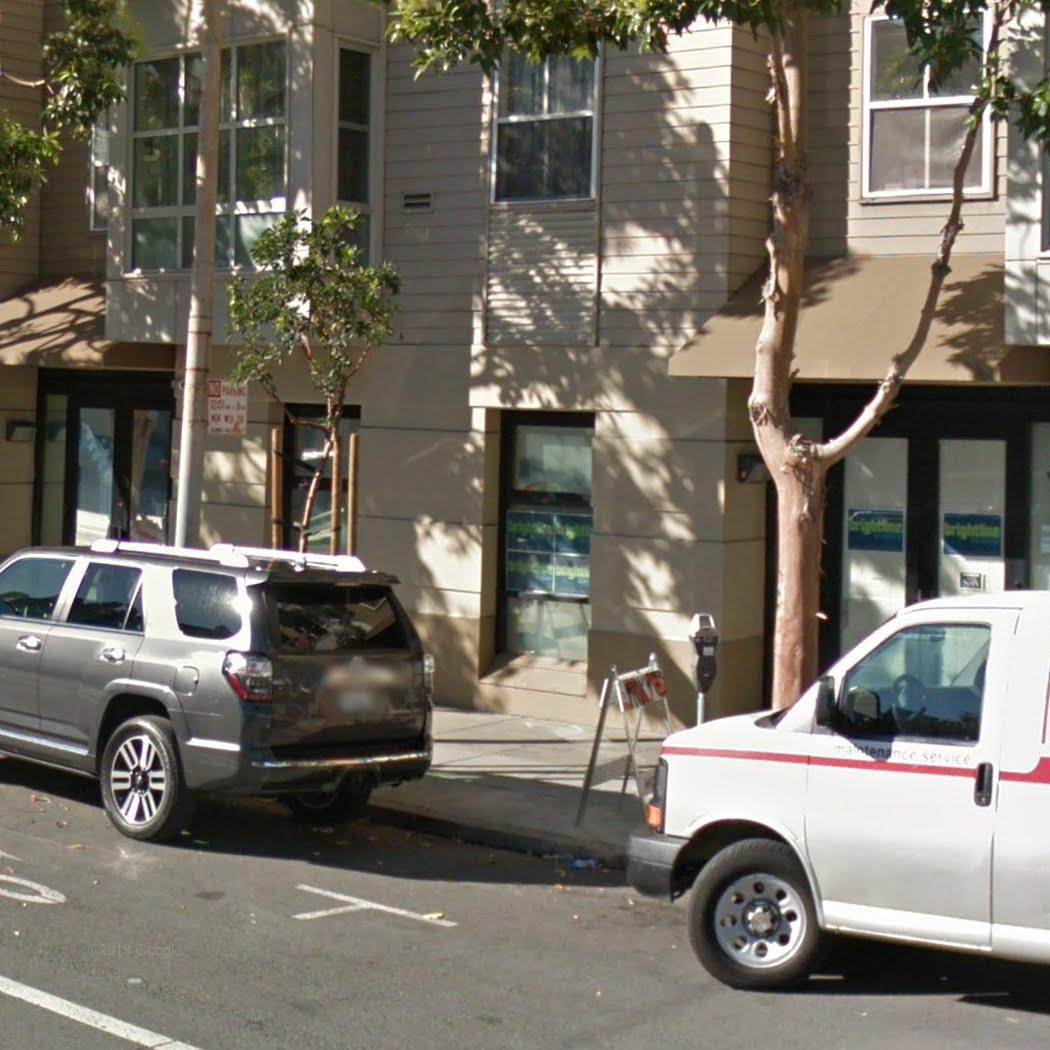No Parking: (204, 377, 251, 437)
